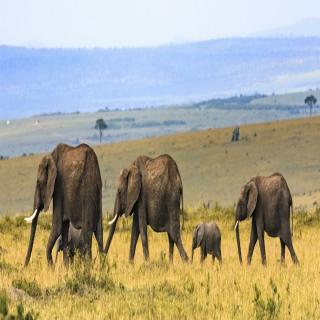Elephant: (17, 132, 105, 274), (105, 146, 189, 272), (235, 170, 303, 268), (190, 214, 226, 270)
